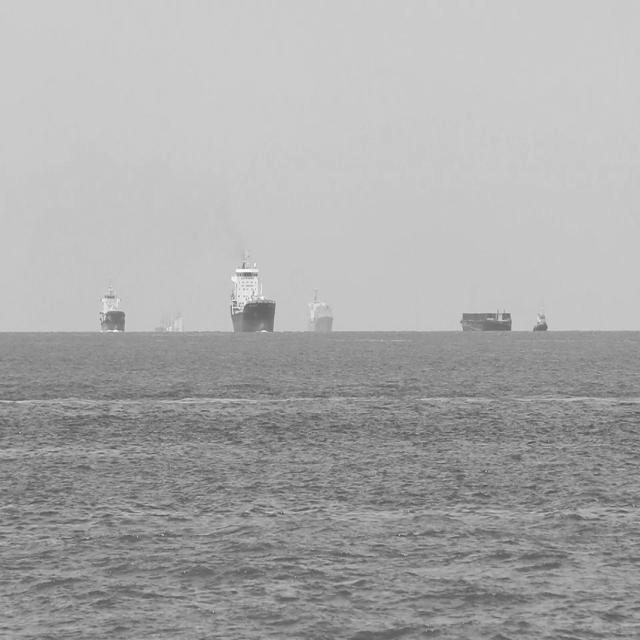ship: (227, 245, 278, 336), (456, 303, 514, 336), (98, 274, 127, 337), (304, 284, 336, 338), (529, 308, 551, 334)
